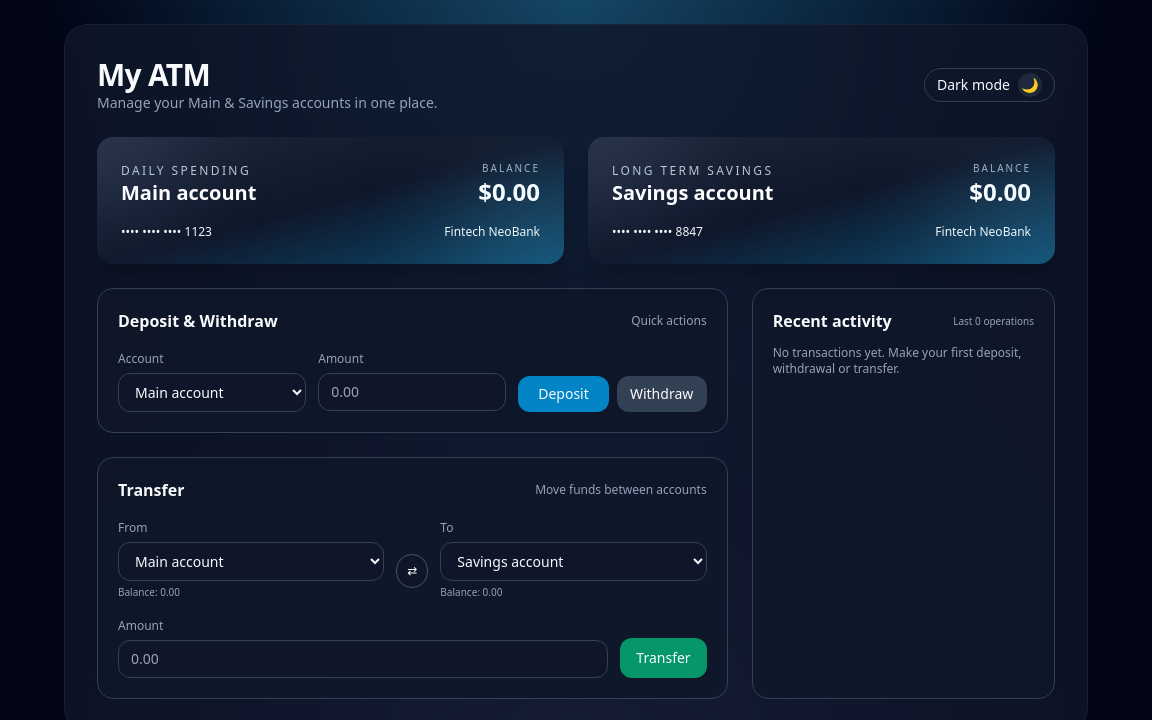
Test: Automaticaly recorded tests › Withdraw more than have
In the number field with test id "operation-amount-input": [412, 392] box [318,373,506,411], type "100"
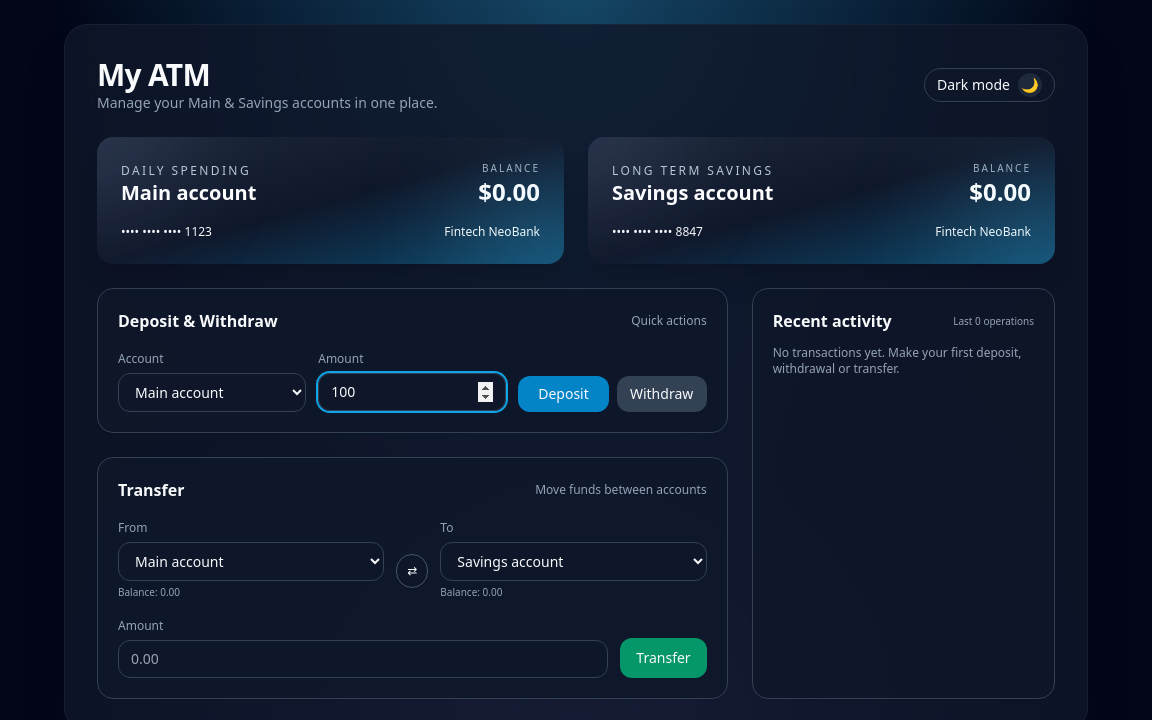
Click the button with test id "deposit-btn": [563, 394] box [518,376,608,412]
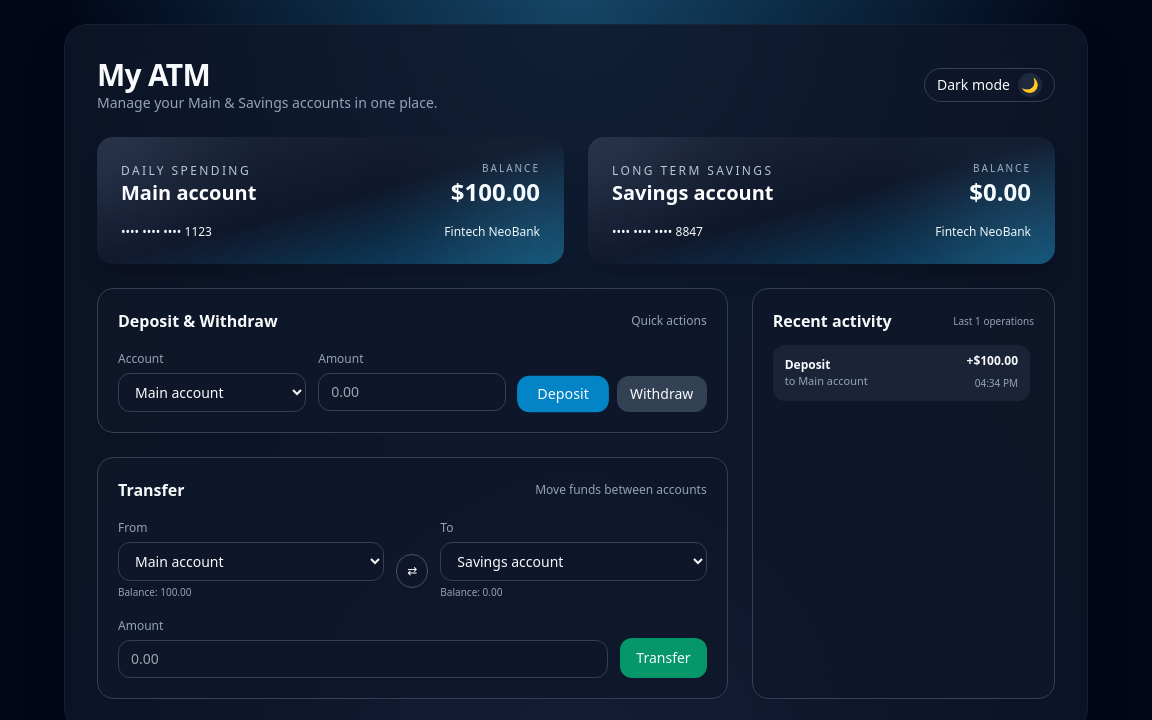
In the number field with test id "operation-amount-input": [412, 392] box [318,373,506,411], type "100.01"
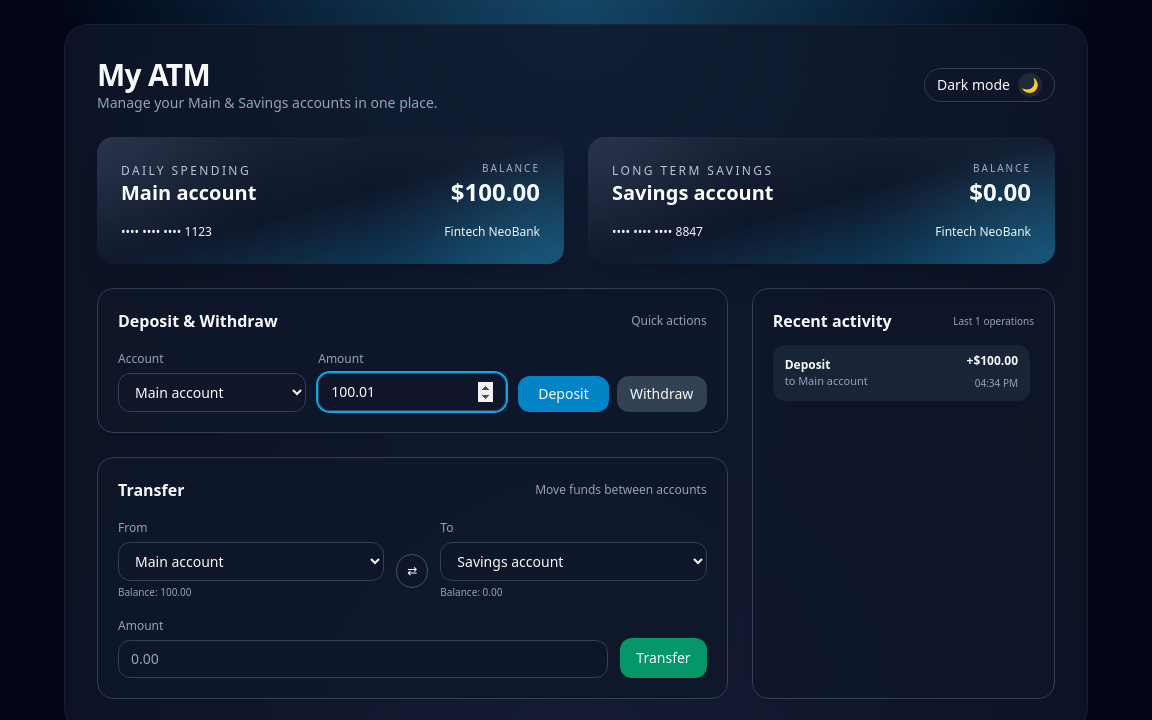
Click the button with test id "withdraw-btn": [662, 394] box [617,376,707,412]
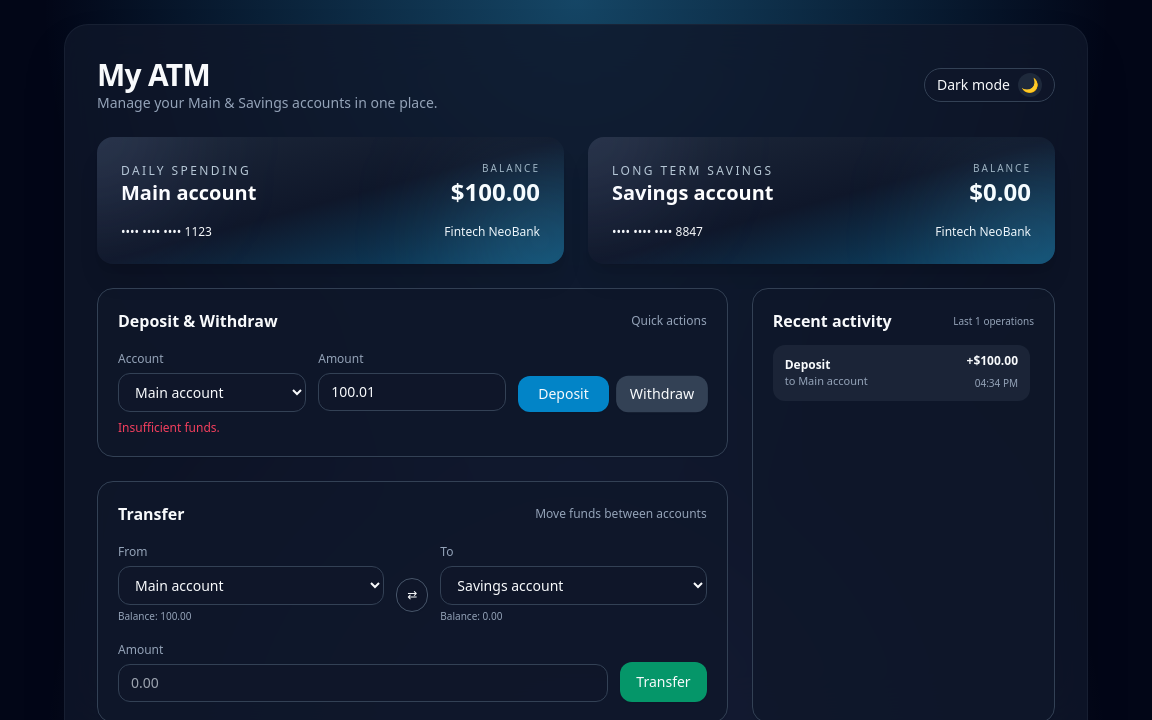
Check: the text with class "font-medium" reads "Insufficient funds.", box [118,419,220,436]
Replace the text in the number field with test id "operation-amount-input" with "100.00": [412, 392] box [318,373,506,411]
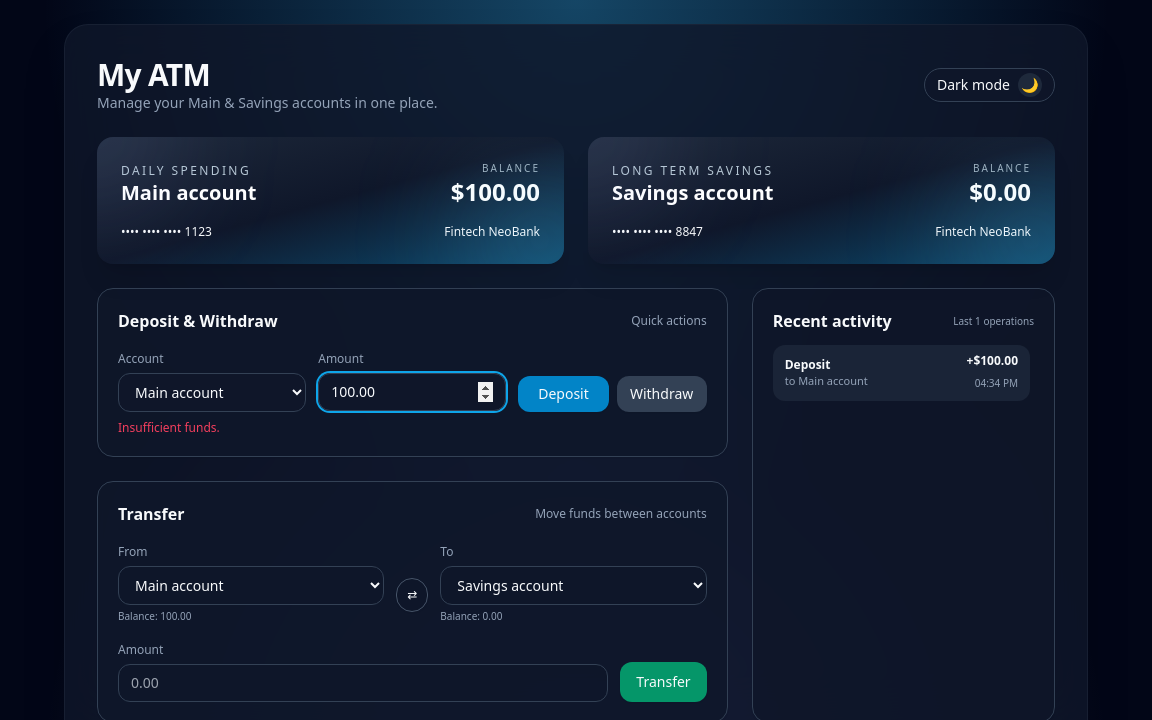
Click the button with test id "withdraw-btn": [662, 394] box [617,376,707,412]
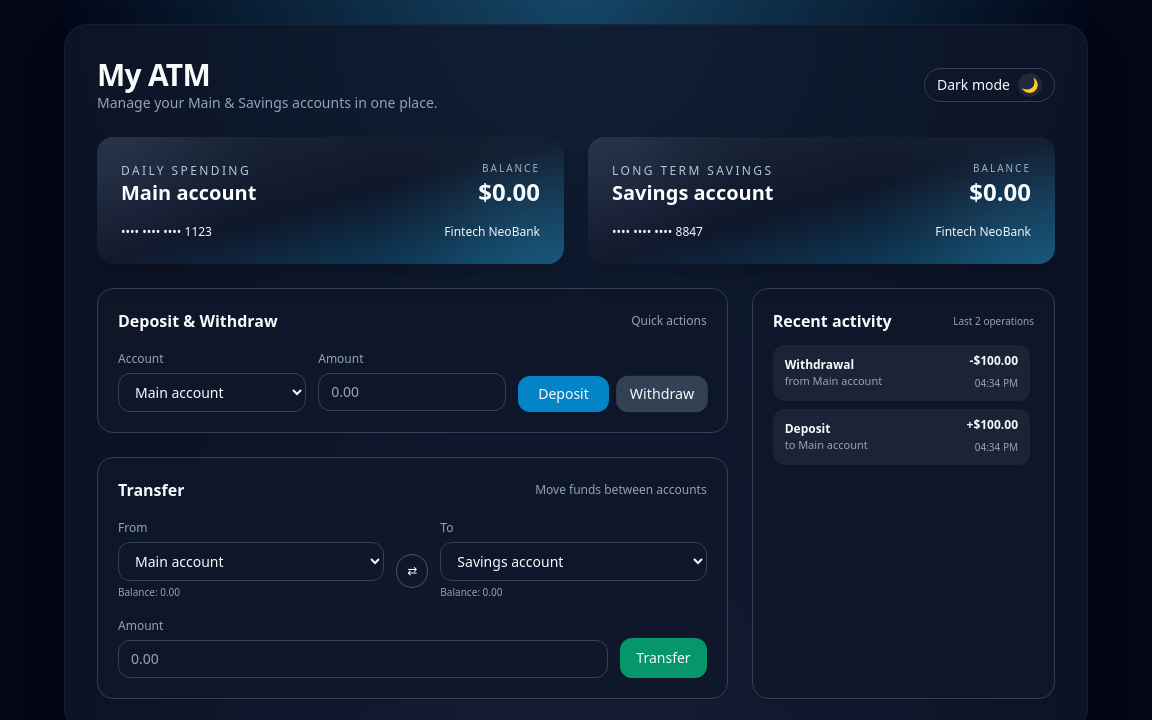
Check: the text "+$100.00" is shown, box [966,417,1018,433]
Check: the text with test id "balance-main" reads "$0.00", box [478,176,540,208]
Check: the text "-$100.00" is shown, box [970,353,1018,369]
